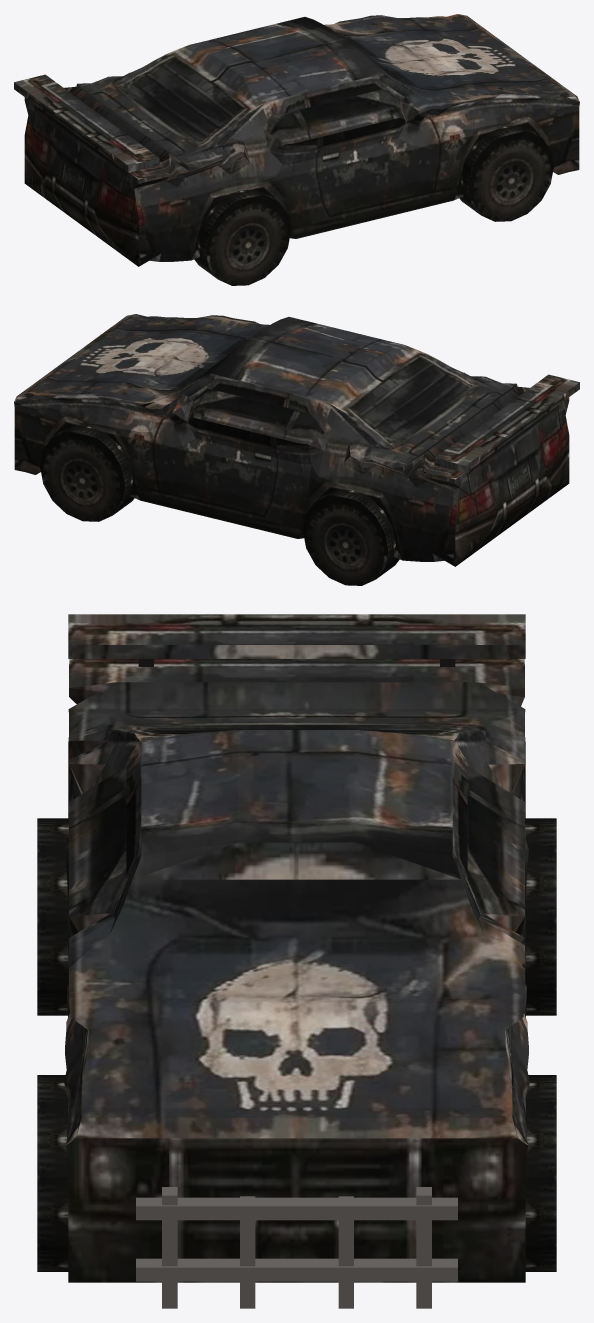
Rendered from raven.glb.
3 renders of one model, top to bottom at view 1: azimuth 30°, elevation 25°; view 2: azimuth 150°, elevation 25°; view 3: azimuth 270°, elevation 25°, orthographic. The views are drawn at different scales.
Parts seen in each view (by area): view 1: raven; view 2: raven; view 3: raven.
Boxes of the visible parts, box(x1,y1,x2,y2) form: raven: box(14, 14, 579, 285); raven: box(14, 314, 579, 585); raven: box(37, 614, 556, 1308).
Size of the model in its own units: 4.15 by 1.36 by 2.
1 material, 1 textured.
